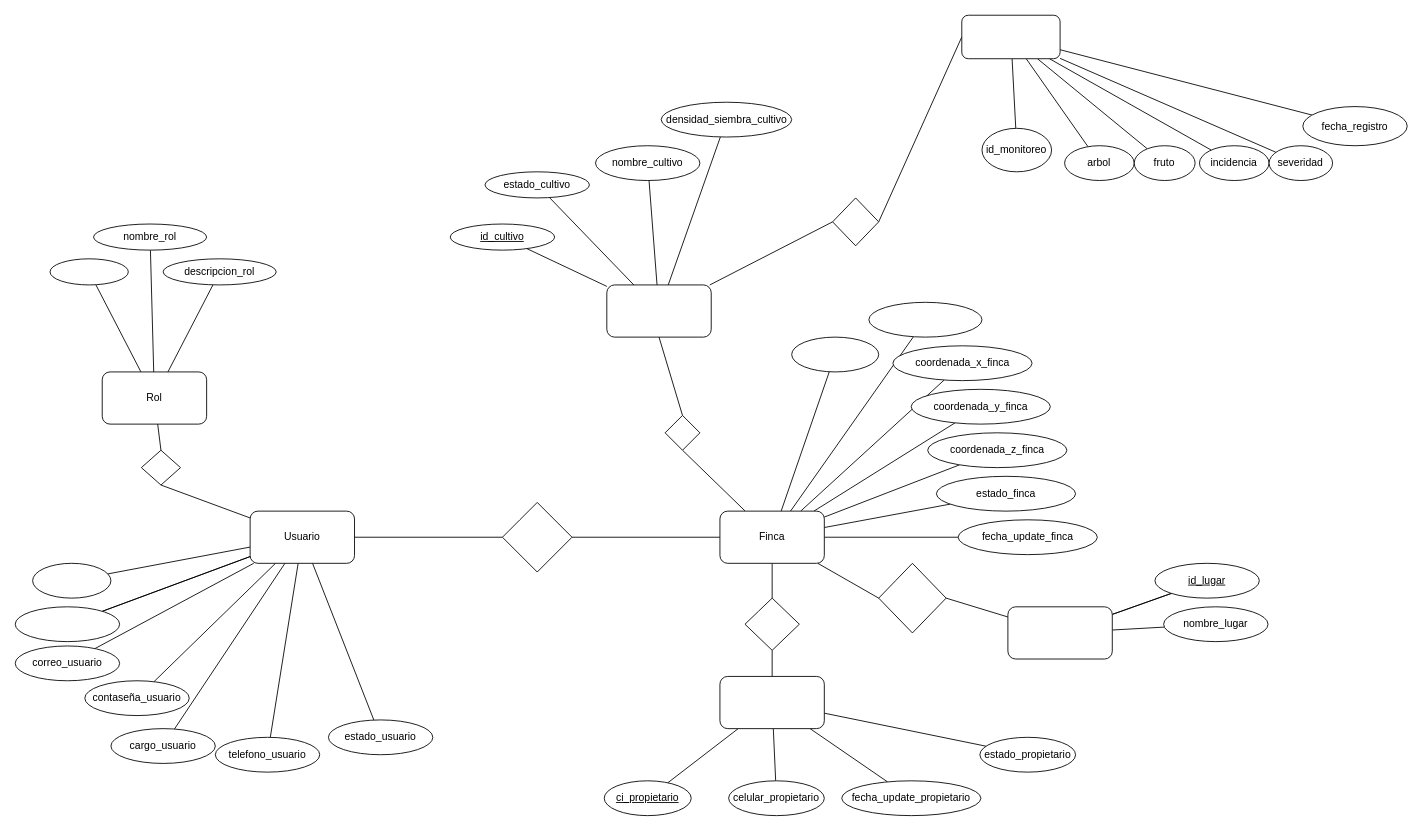
Some shapes in this 1422 by 831 pixel diagram are drawn without their labels. Each missing label, with the centre of its shape:
"cedula_usuario" goes at point 71,580.
"cultivo" goes at point 658,310.
"id_finca" goes at point 835,354.
"id_rol" goes at point 88,271.
"Lugar" goes at point 1059,632.
"Monitoreo" goes at point 1010,36.
"nombre_finca" goes at point 925,319.
"nombre_usuario" goes at point 67,624.
"Pertenece" goes at point 912,597.
"Propietario" goes at point 771,702.
"R-U" goes at point 161,467.
"Tiene" goes at point 771,623.
"U-F" goes at point 537,537.
